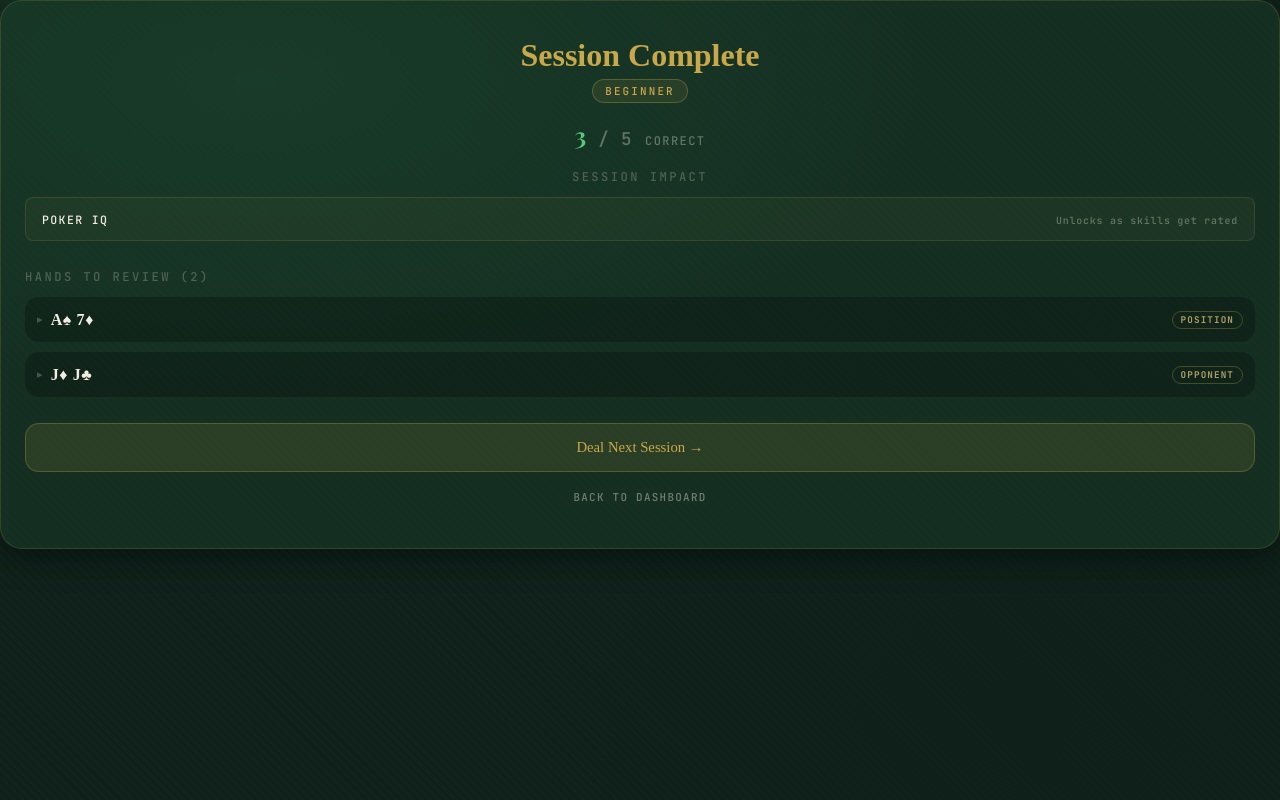
tapping a review row expands that row in place
This screenshot has width=1280, height=800.
Click the button with class "ss-hr-row" showing "▸ A♠ 7♦ Position".
click(72, 319)  # box [25,297,1255,342]
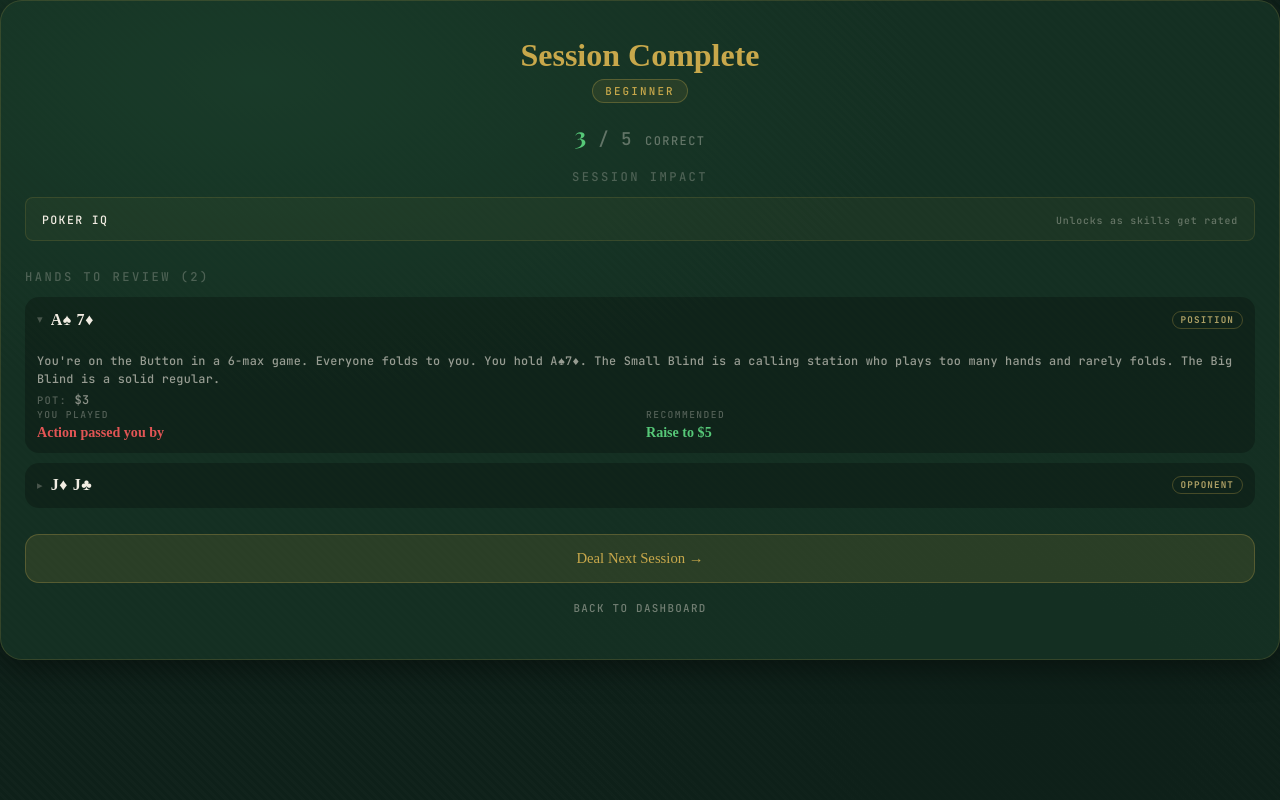
Result: the number of elements with class "ss-hr-detail" is 1 at [25,352,1255,453]
